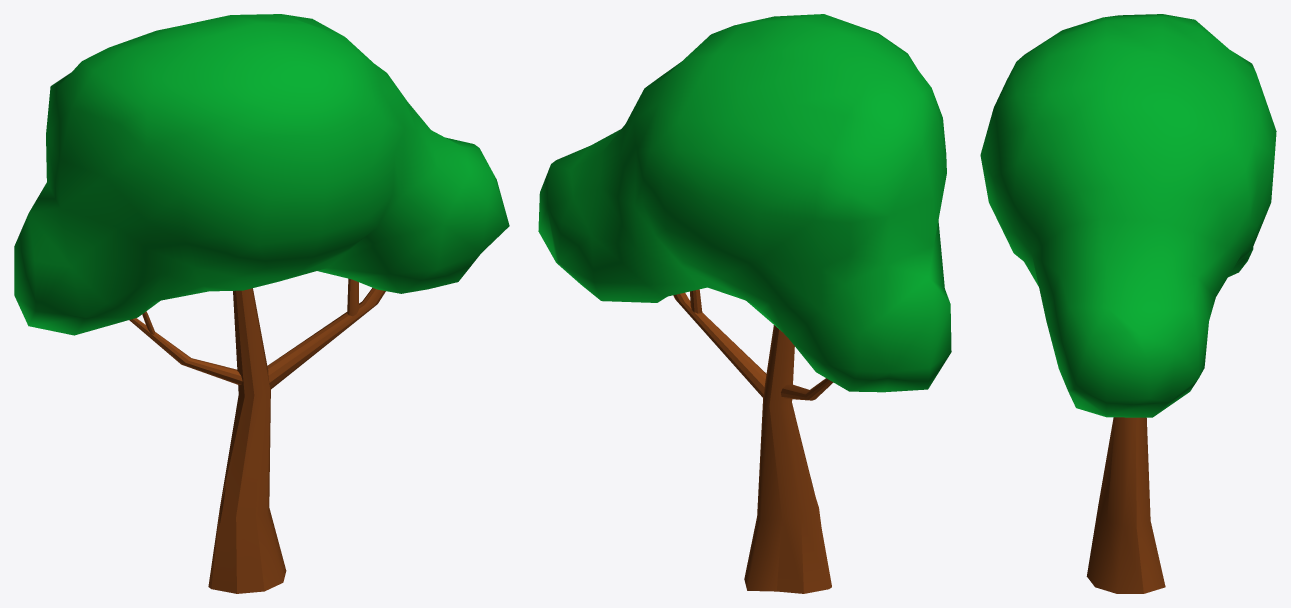
Rendered from tree.fbx.
3 views of the same model, side by side, from view 1: azimuth 30°, elevation 25°; view 2: azimuth 150°, elevation 25°; view 3: azimuth 270°, elevation 25° (orthographic). The views are drawn at different scales.
Visible parts, largest first — view 1: Cylinder.004; view 2: Cylinder.004; view 3: Cylinder.004.
Boxes of the visible parts, bbox=[...] form: Cylinder.004: bbox=[14, 14, 509, 593]; Cylinder.004: bbox=[538, 14, 951, 593]; Cylinder.004: bbox=[980, 14, 1276, 593].
Bounding box in the file's own units: 1090 × 1356 × 679.
